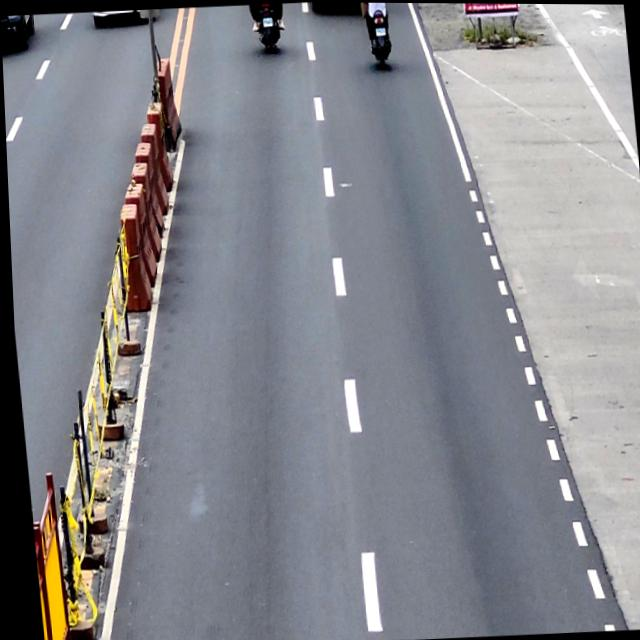License-Plate: (262, 17, 274, 29), (374, 27, 387, 38)
Motorcycle: (365, 2, 394, 68), (250, 3, 284, 55)
